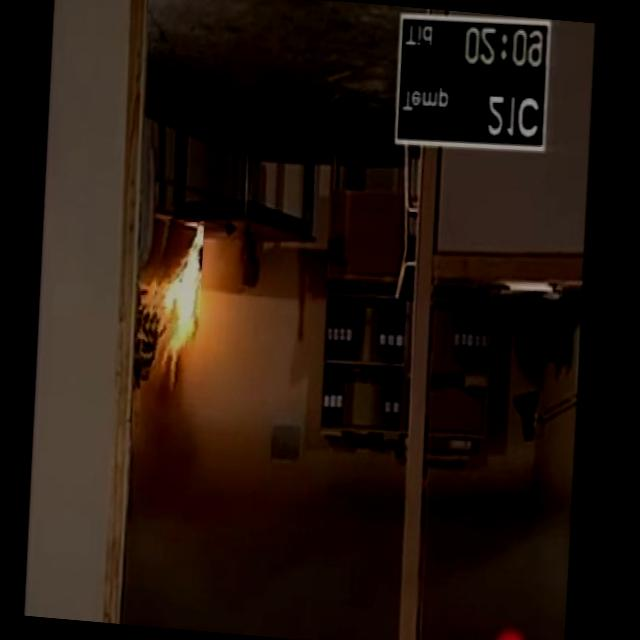fire: (141, 241, 226, 377)
